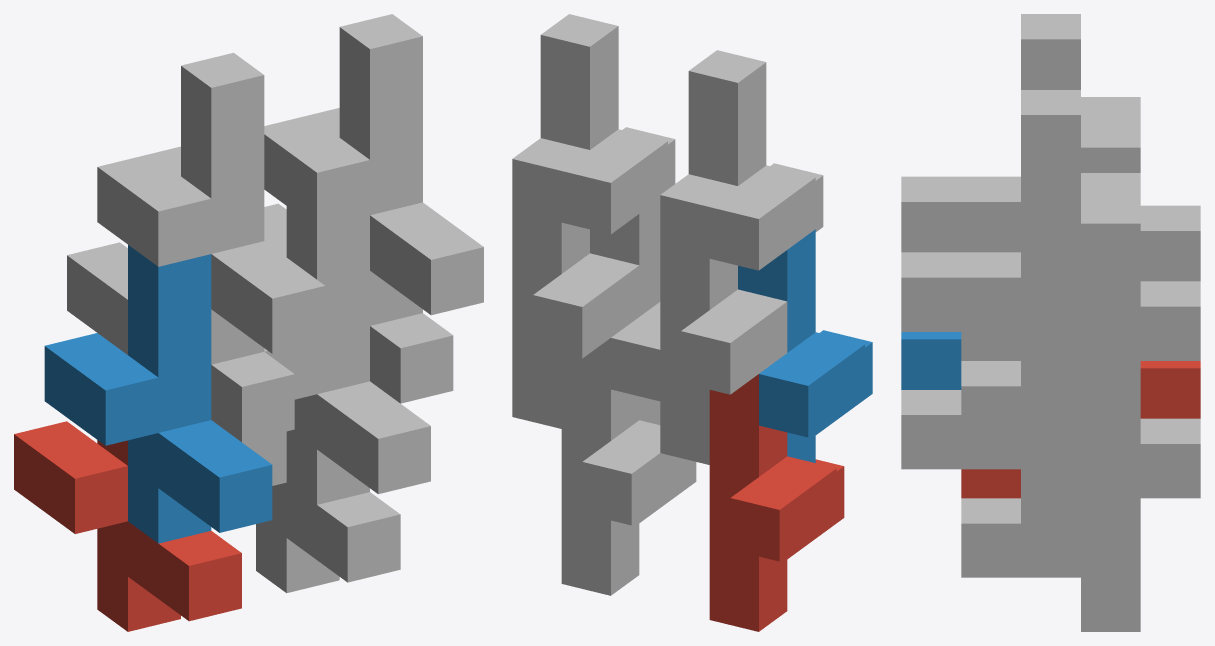
Rendered from tiling.obj.
The picture shows the model from 3 angles, left to right: view 1: azimuth 30°, elevation 25°; view 2: azimuth 150°, elevation 25°; view 3: azimuth 270°, elevation 25°; orthographic projection. The views are drawn at different scales.
Parts seen in each view (by area): view 1: copy_1_domain_2, copy_1_domain_4, copy_1_domain_8, copy_1_domain_6, copy_1_domain_1, copy_1_domain_5, copy_1_domain_3, copy_1_domain_7; view 2: copy_1_domain_1, copy_1_domain_7, copy_1_domain_3, copy_1_domain_5, copy_1_domain_4, copy_1_domain_8, copy_1_domain_2, copy_1_domain_6; view 3: copy_1_domain_7, copy_1_domain_8, copy_1_domain_5, copy_1_domain_4, copy_1_domain_6, copy_1_domain_3, copy_1_domain_1, copy_1_domain_2.
Boxes of the visible parts, bbox=[...] form: copy_1_domain_2: bbox=[44, 245, 272, 543]; copy_1_domain_4: bbox=[97, 52, 325, 364]; copy_1_domain_8: bbox=[264, 14, 483, 325]; copy_1_domain_6: bbox=[264, 206, 430, 504]; copy_1_domain_1: bbox=[14, 421, 241, 631]; copy_1_domain_5: bbox=[242, 431, 400, 593]; copy_1_domain_3: bbox=[67, 146, 294, 442]; copy_1_domain_7: bbox=[264, 108, 453, 403]; copy_1_domain_1: bbox=[709, 374, 844, 631]; copy_1_domain_7: bbox=[512, 138, 639, 428]; copy_1_domain_3: bbox=[660, 174, 787, 464]; copy_1_domain_5: bbox=[561, 338, 696, 595]; copy_1_domain_4: bbox=[688, 50, 823, 270]; copy_1_domain_8: bbox=[540, 14, 675, 234]; copy_1_domain_2: bbox=[738, 229, 872, 462]; copy_1_domain_6: bbox=[590, 199, 660, 424]; copy_1_domain_7: bbox=[961, 198, 1200, 494]; copy_1_domain_8: bbox=[901, 90, 1140, 386]; copy_1_domain_5: bbox=[961, 418, 1200, 631]; copy_1_domain_4: bbox=[901, 14, 1140, 252]; copy_1_domain_6: bbox=[901, 390, 1080, 523]; copy_1_domain_3: bbox=[961, 122, 1200, 360]; copy_1_domain_1: bbox=[961, 361, 1200, 498]; copy_1_domain_2: bbox=[901, 332, 961, 389].
Bounding box in the file's own units: 6 × 10 × 5.
